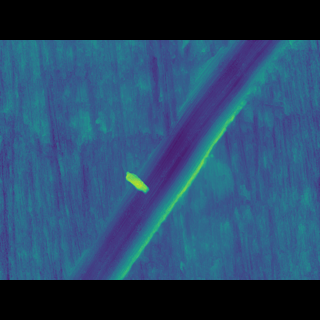Loch: (64, 69, 286, 250)
